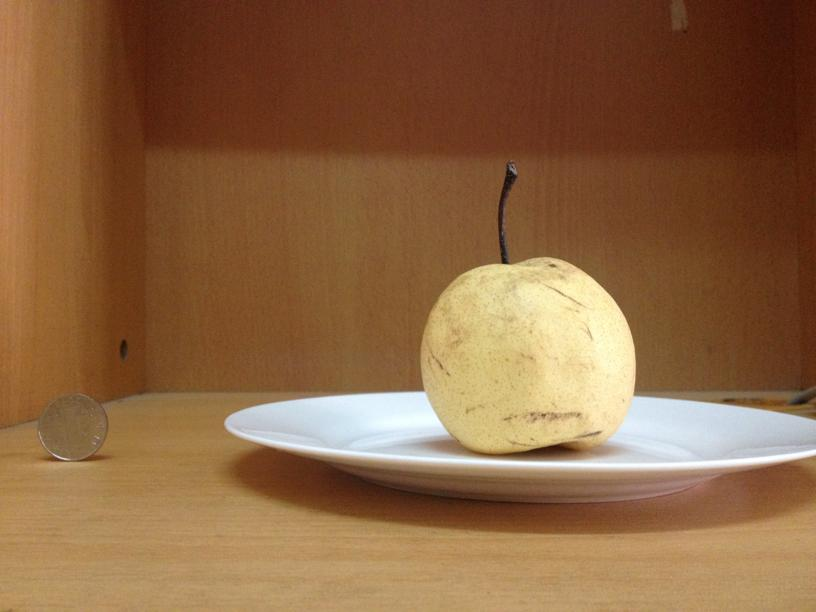coin: (36, 393, 106, 460)
pear: (421, 255, 634, 455)
